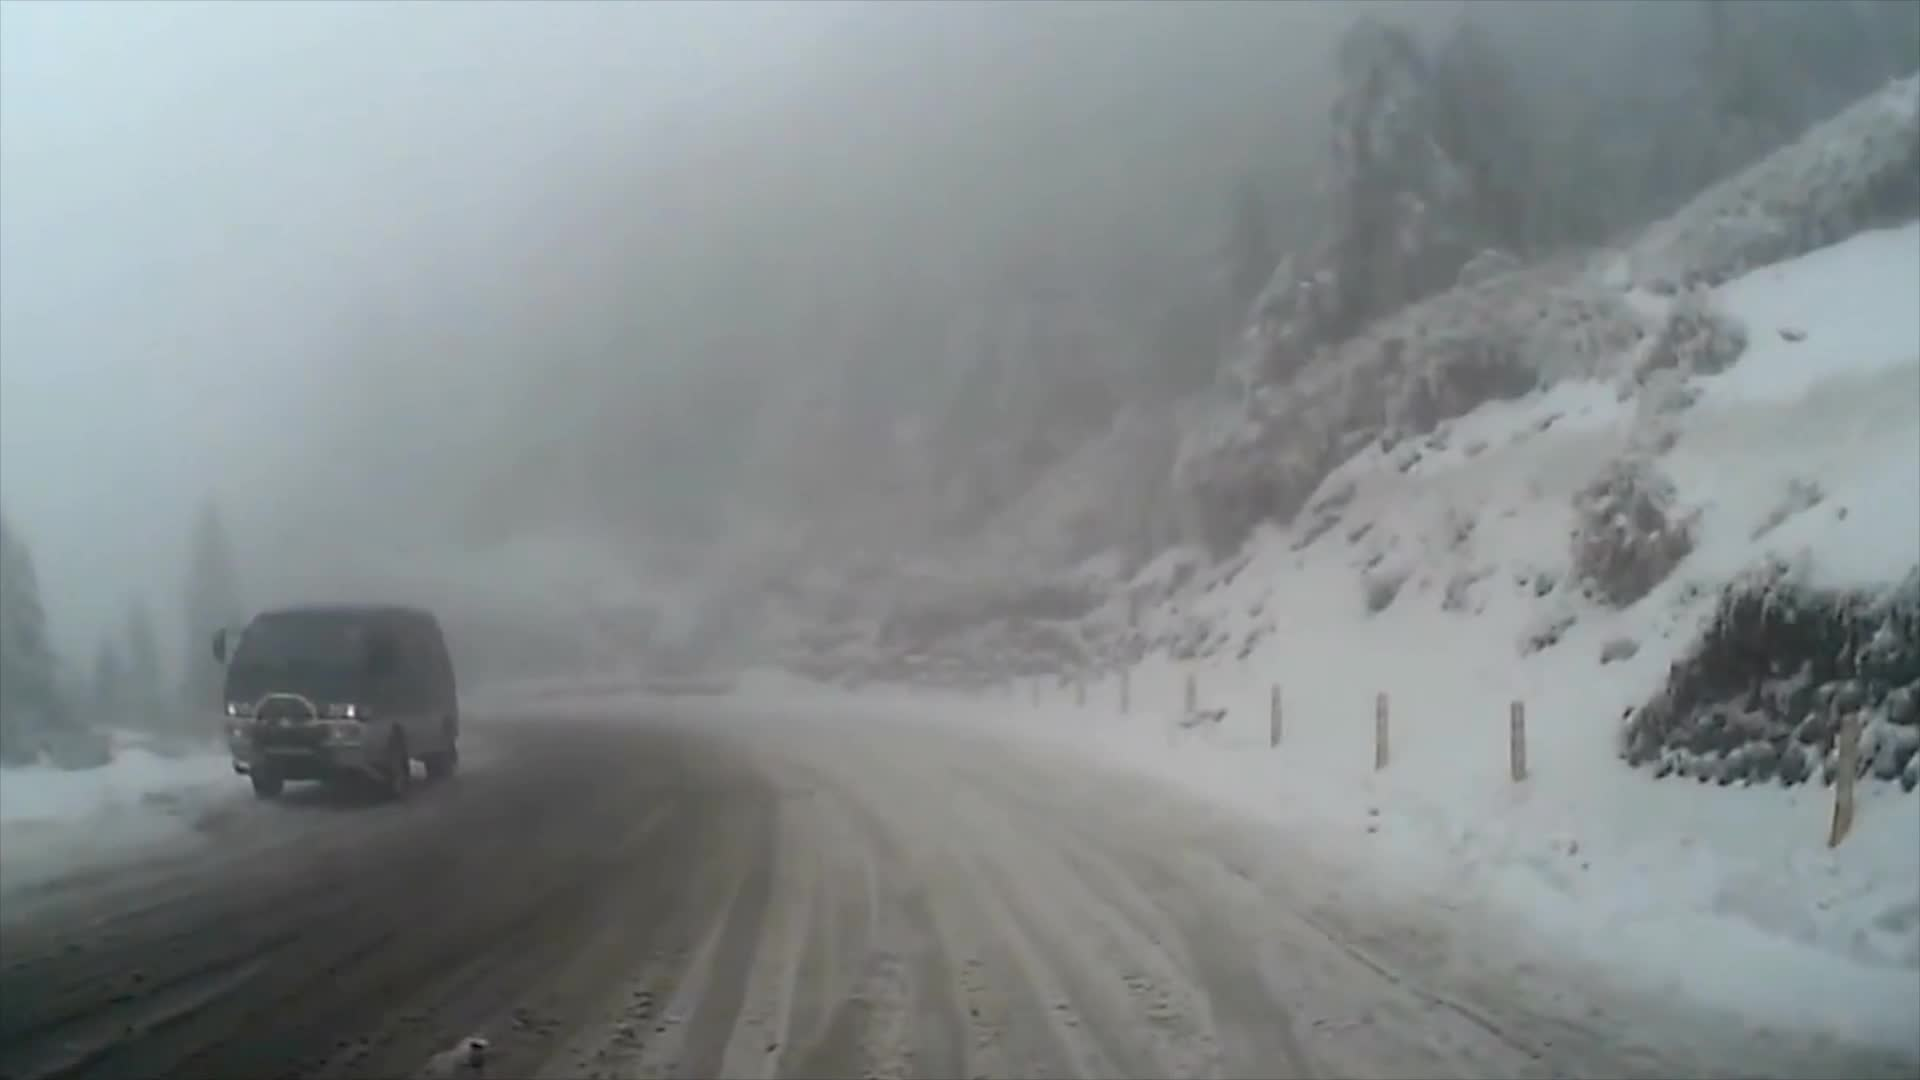vehicle: (208, 603, 458, 807)
